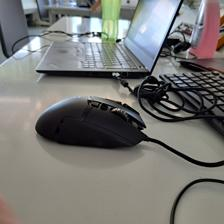bottle: (99, 0, 122, 42)
mouse: (34, 94, 146, 151)
